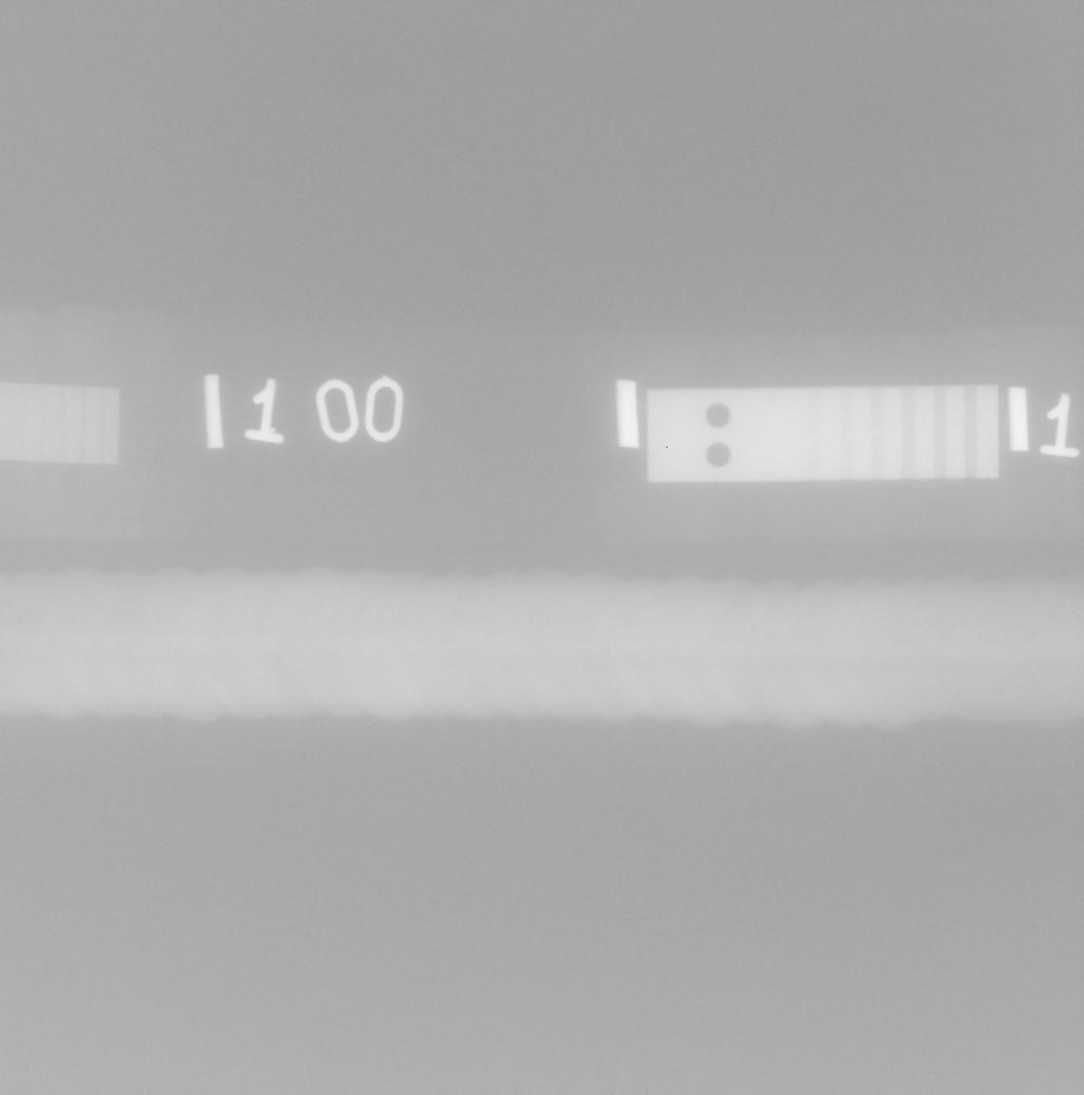Reference Standard 2: (647, 384, 1000, 482)
